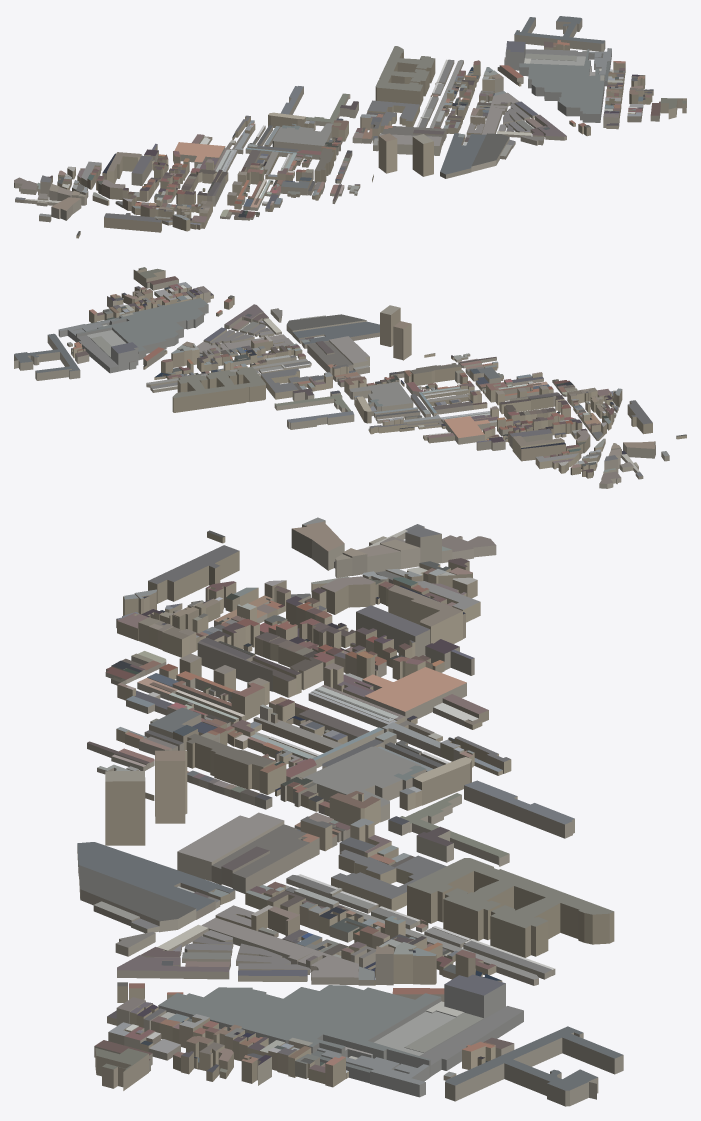
The picture shows the model from 3 angles, top to bottom: view 1: azimuth 30°, elevation 25°; view 2: azimuth 150°, elevation 25°; view 3: azimuth 270°, elevation 25°; orthographic projection. The views are drawn at different scales.
Visible parts, largest first — view 1: tuile; view 2: tuile; view 3: tuile.
Part boxes in pixels (box(x1,y1,x2,y2)): tuile: box(14, 16, 686, 238); tuile: box(14, 267, 686, 488); tuile: box(77, 517, 623, 1106).
Bounding box in the file's own units: 1044 × 62.81 × 416.
